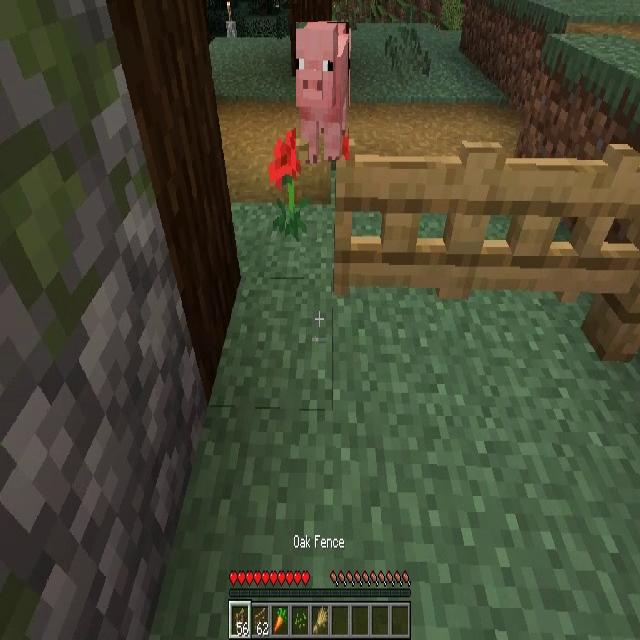pig: (296, 22, 349, 160)
